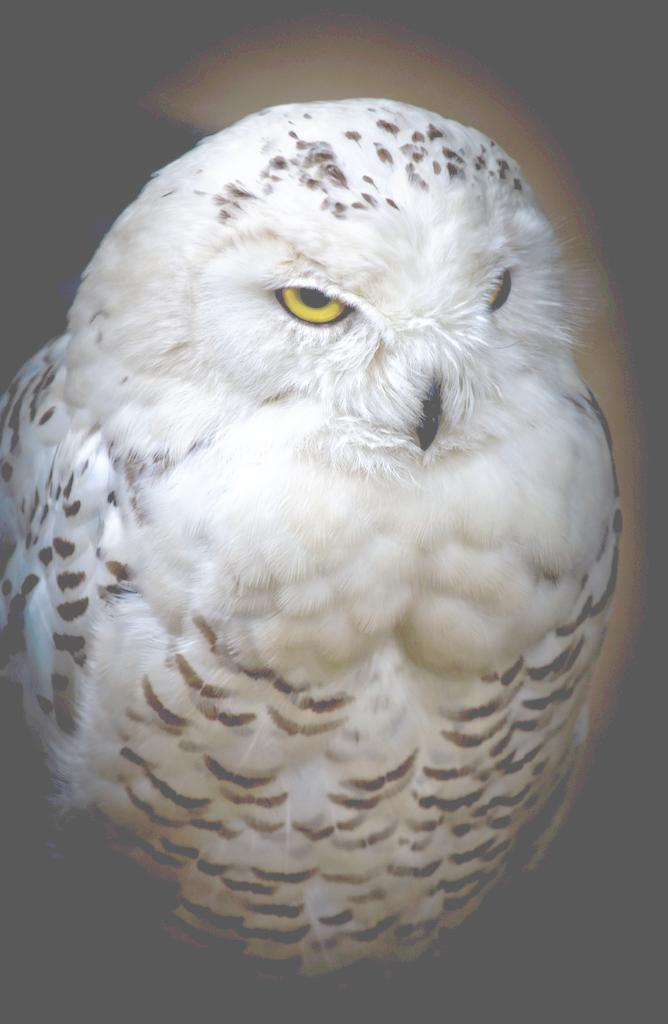Owl: (12, 92, 612, 938)
